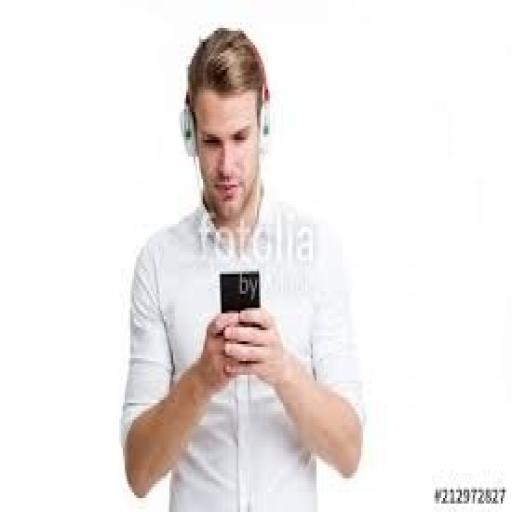listening_to_music: (117, 22, 367, 510)
